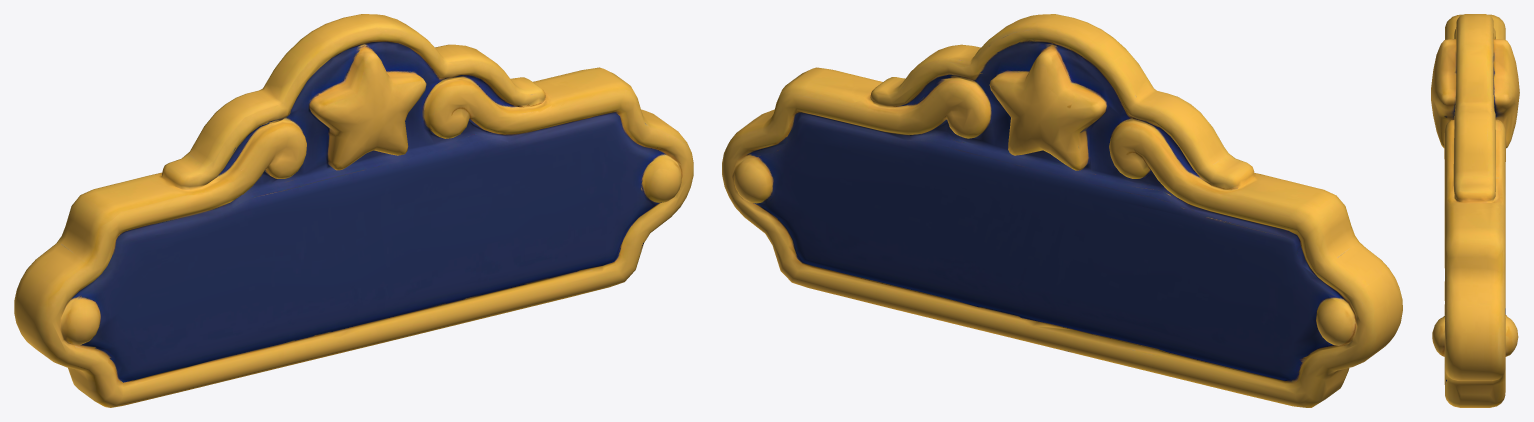
3 views of the same model, side by side, from view 1: azimuth 30°, elevation 25°; view 2: azimuth 150°, elevation 25°; view 3: azimuth 270°, elevation 25° (orthographic). The views are drawn at different scales.
Visible parts, largest first — view 1: plate-navy; view 2: plate-navy; view 3: plate-navy.
Boxes of the visible parts, x1,y1,x2,y2 form: plate-navy: (14, 14, 693, 407); plate-navy: (722, 14, 1402, 407); plate-navy: (1431, 14, 1519, 407).
Size of the model in its own units: 1.2 by 0.5535 by 0.1613.
1 material, 1 textured.
